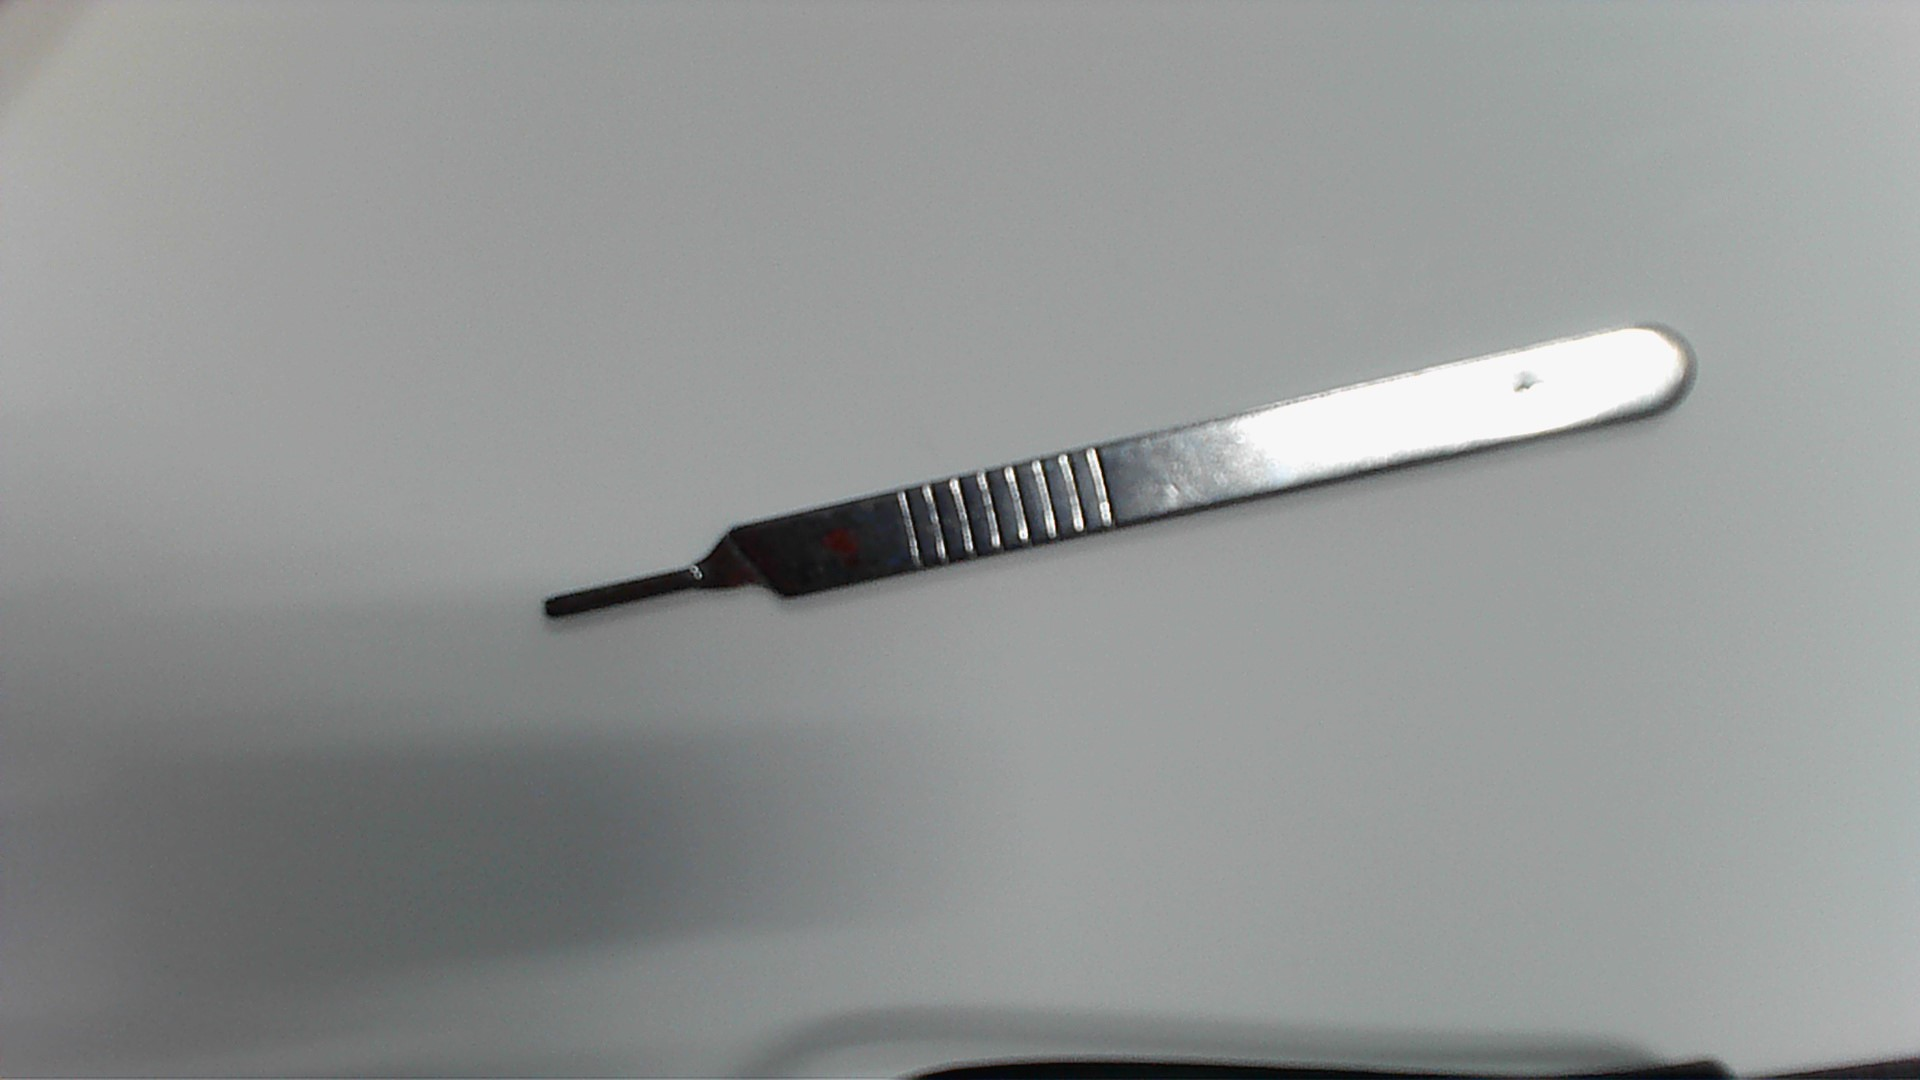Stain: (806, 518, 869, 566)
